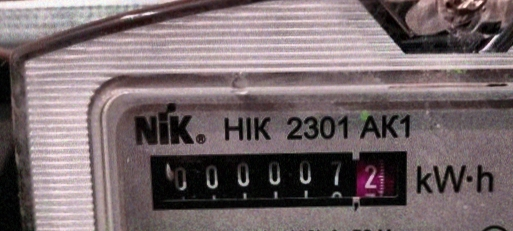0: (170, 164, 187, 191), (264, 159, 281, 186), (202, 162, 218, 190), (233, 160, 249, 188), (296, 158, 311, 186)
2: (361, 164, 377, 190)
7: (327, 158, 342, 188)
screen: (137, 143, 417, 217)
